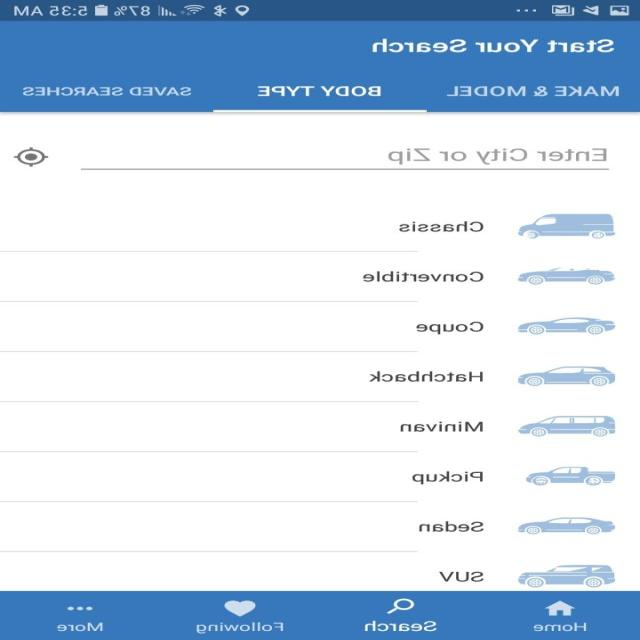EditText: (82, 148, 610, 170)
Icon: (14, 146, 50, 166), (544, 599, 576, 616), (224, 600, 257, 616), (386, 597, 416, 614), (68, 606, 94, 610)
Image: (517, 213, 615, 240), (518, 564, 616, 588), (517, 415, 615, 436), (518, 365, 616, 386), (526, 466, 616, 486), (517, 266, 616, 284), (517, 517, 615, 535), (517, 316, 615, 334)
Text: (388, 148, 608, 164), (372, 39, 616, 53), (446, 85, 620, 96), (23, 86, 193, 96), (362, 270, 484, 282), (258, 85, 382, 96), (368, 371, 484, 382), (196, 621, 284, 634), (400, 220, 484, 232), (412, 470, 483, 484), (364, 619, 438, 632), (416, 321, 484, 335), (401, 421, 484, 432), (418, 520, 484, 532), (534, 622, 588, 632), (440, 570, 484, 582), (57, 621, 104, 631)
